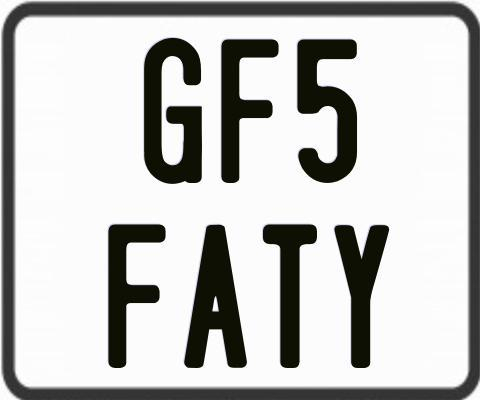5: (297, 38, 359, 184)
A: (181, 223, 247, 368)
F: (107, 222, 168, 372), (219, 37, 279, 183)
G: (142, 35, 206, 183)
T: (263, 223, 321, 372)
Y: (333, 223, 393, 367)
